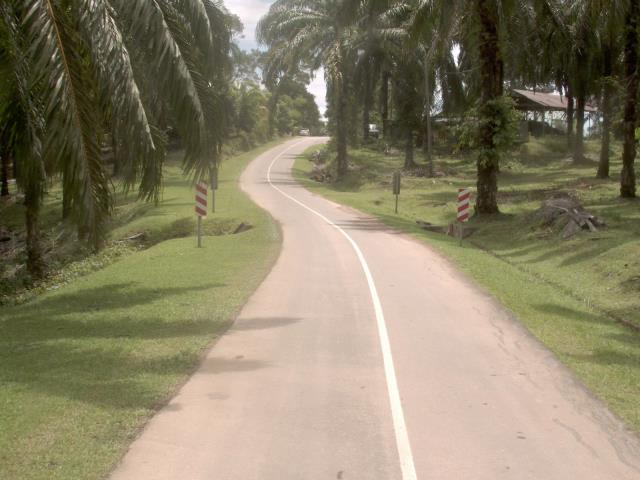traffic_sign: (450, 181, 478, 231), (191, 177, 211, 219)
